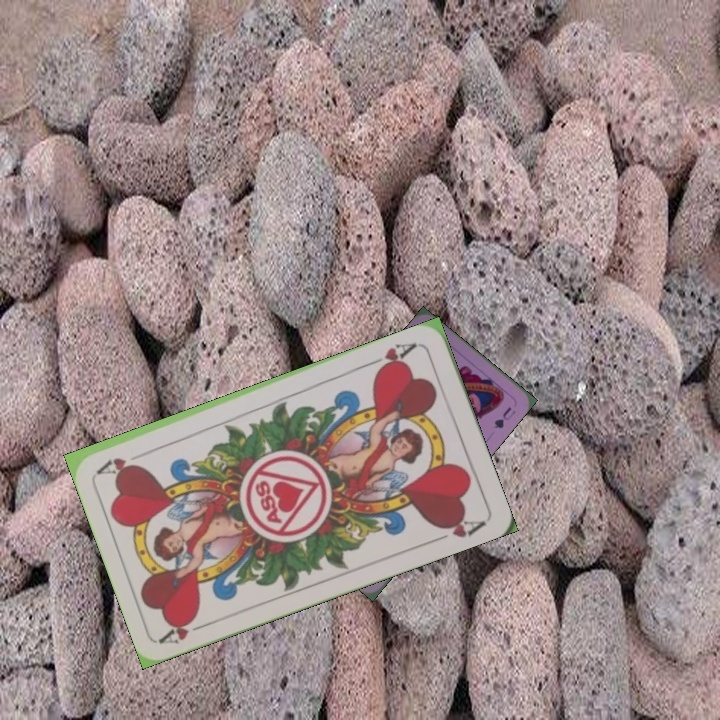HA: (365, 339, 422, 376), (157, 612, 215, 647)
